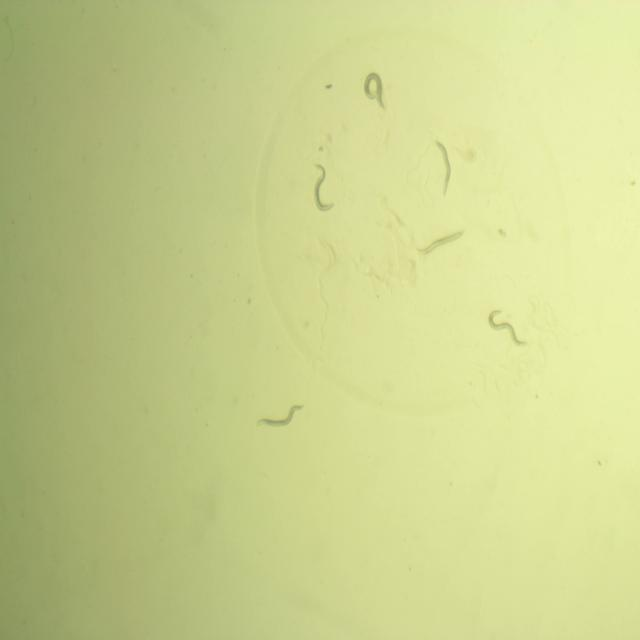worm: (486, 302, 533, 354), (413, 225, 470, 260), (310, 156, 338, 226), (254, 397, 306, 434), (428, 137, 456, 201), (360, 66, 388, 116)
